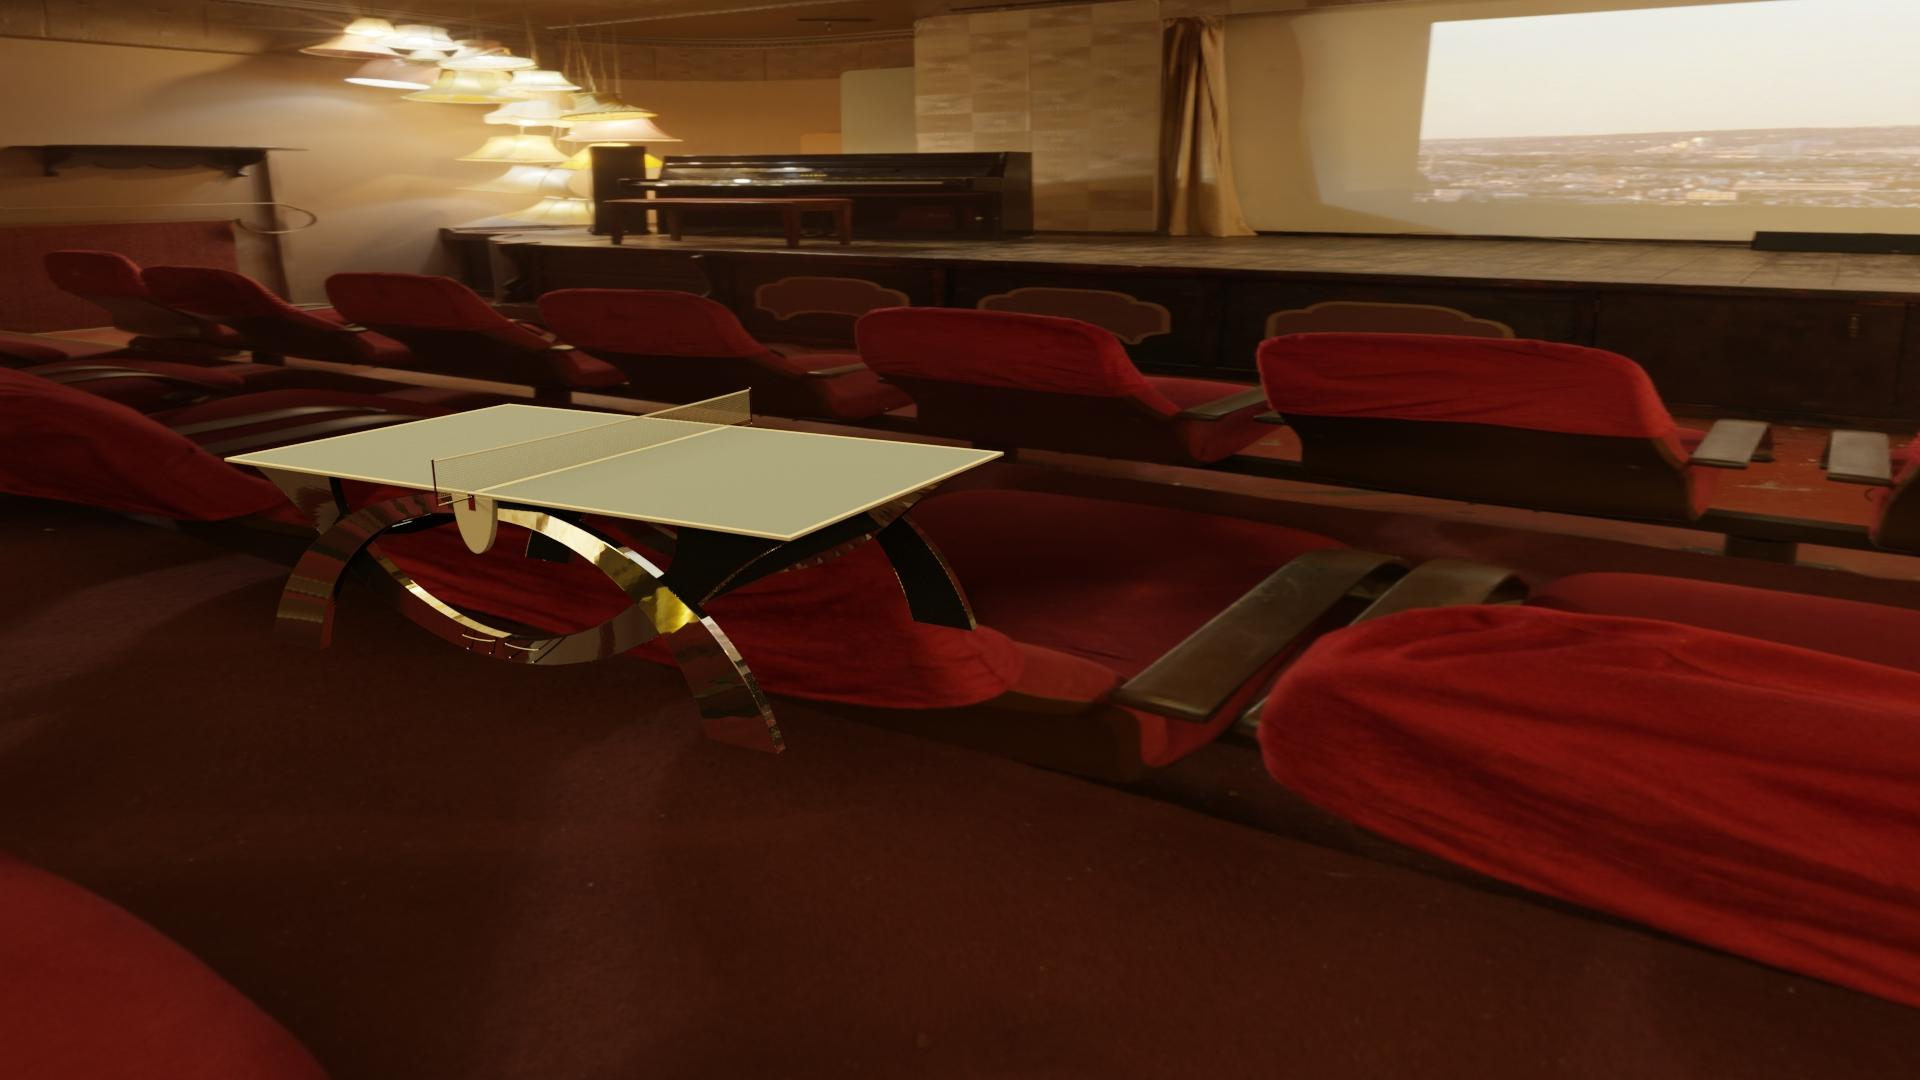table: (232, 405, 997, 535)
